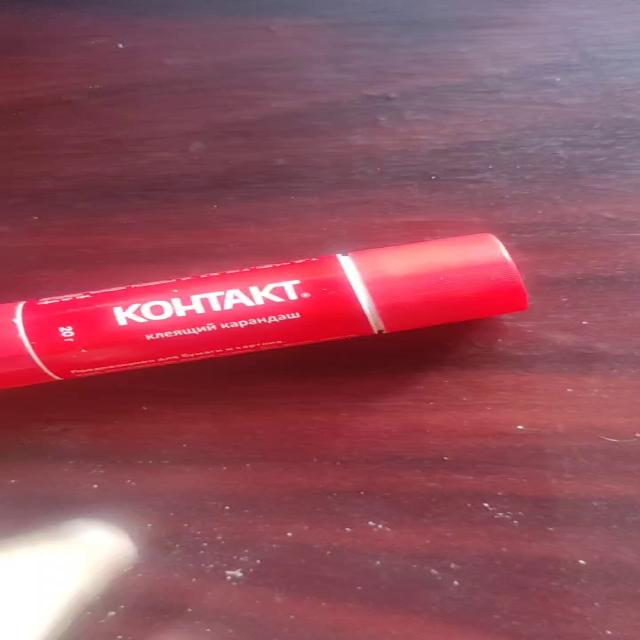glue: (1, 231, 530, 390)
